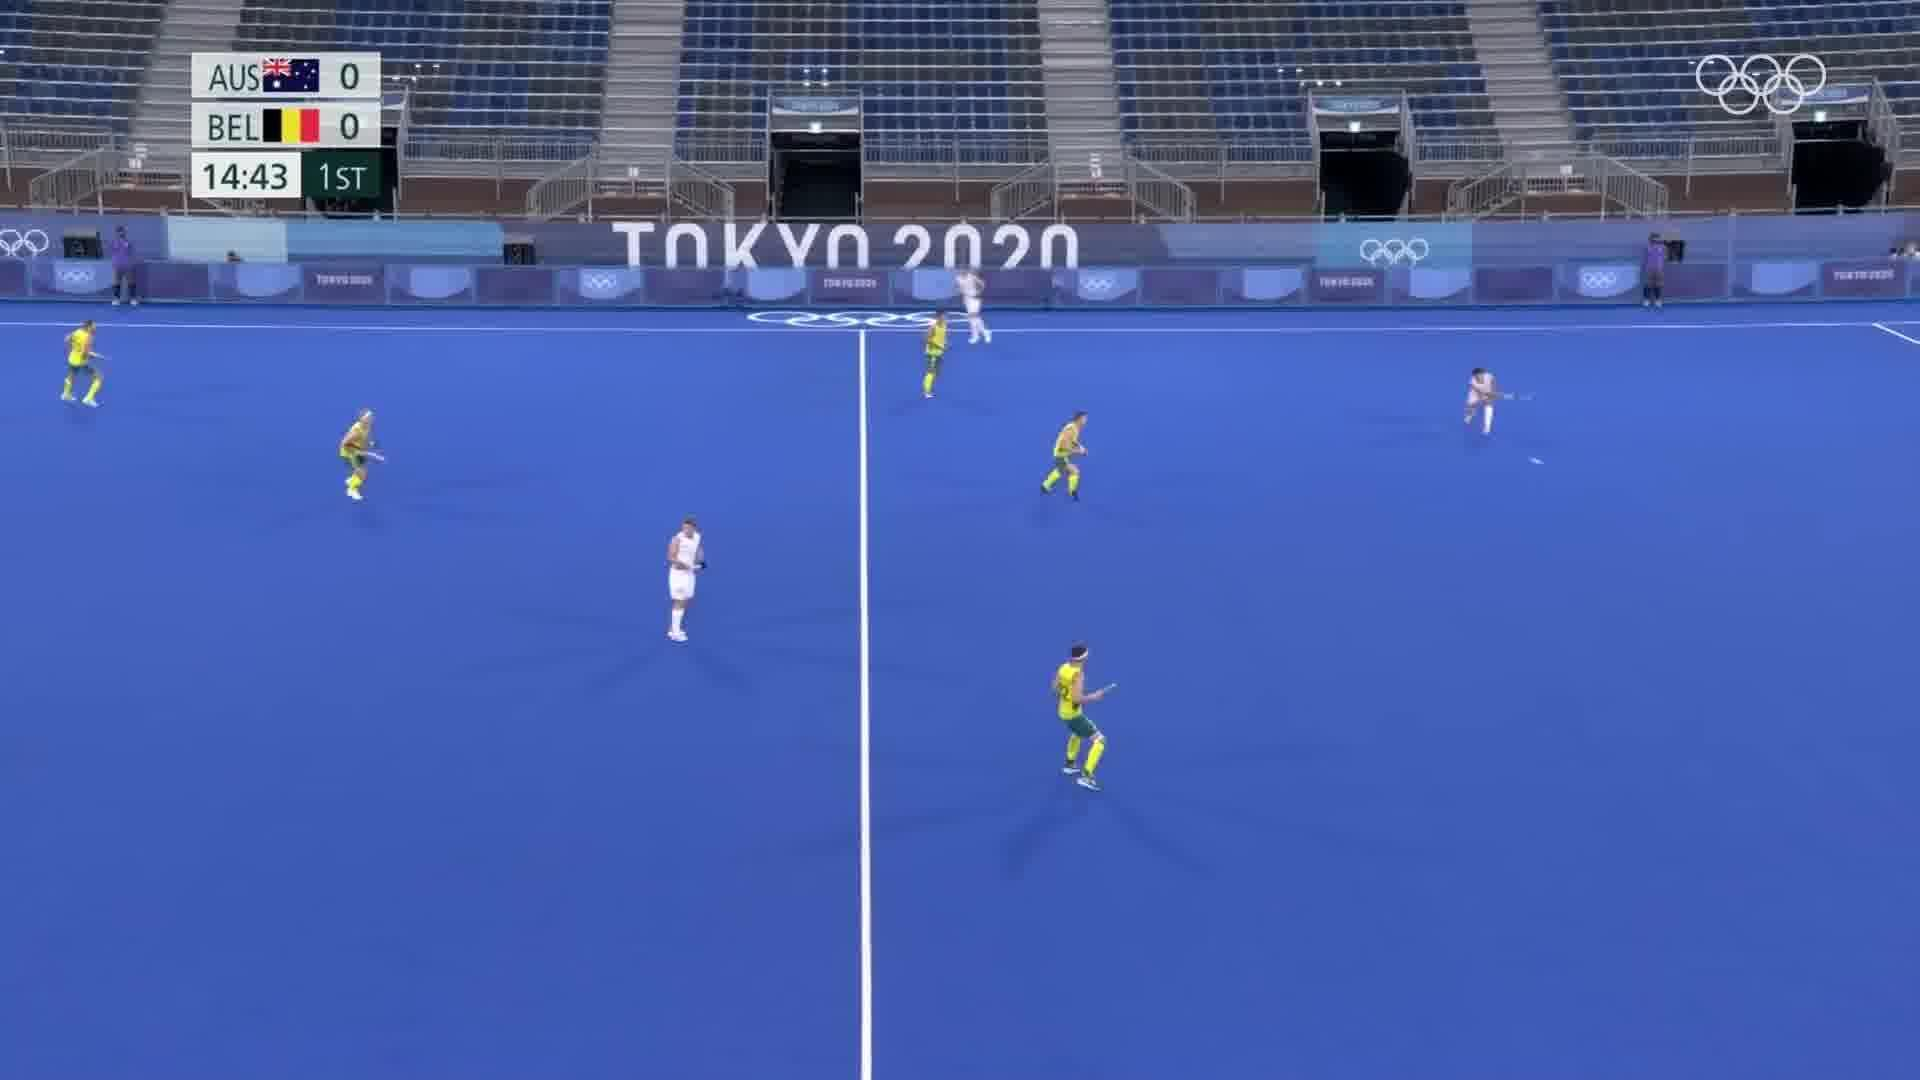ball: (1524, 444, 1551, 479)
